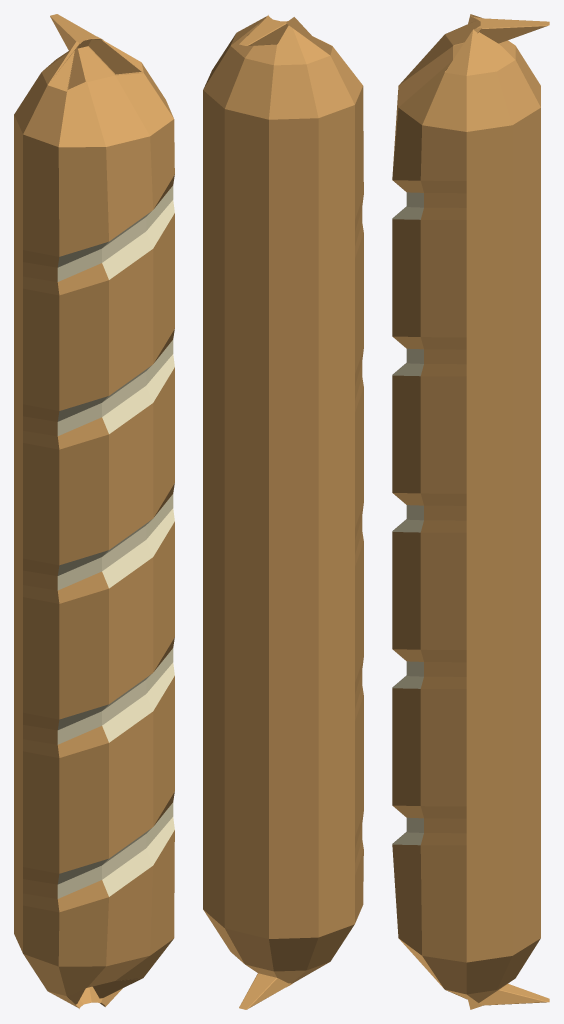
The model's file is baguette.glb.
The picture shows the model from 3 angles, left to right: view 1: azimuth 30°, elevation 25°; view 2: azimuth 150°, elevation 25°; view 3: azimuth 270°, elevation 25°; orthographic projection.
Visible parts, largest first — view 1: baguette; view 2: baguette; view 3: baguette.
Boxes of the visible parts, x1,y1,x2,y2 form: baguette: (14,14,174,1008); baguette: (203,15,363,1009); baguette: (392,14,549,1009).
Bounding box in the file's own units: 0.062 × 0.4026 × 0.0584.
